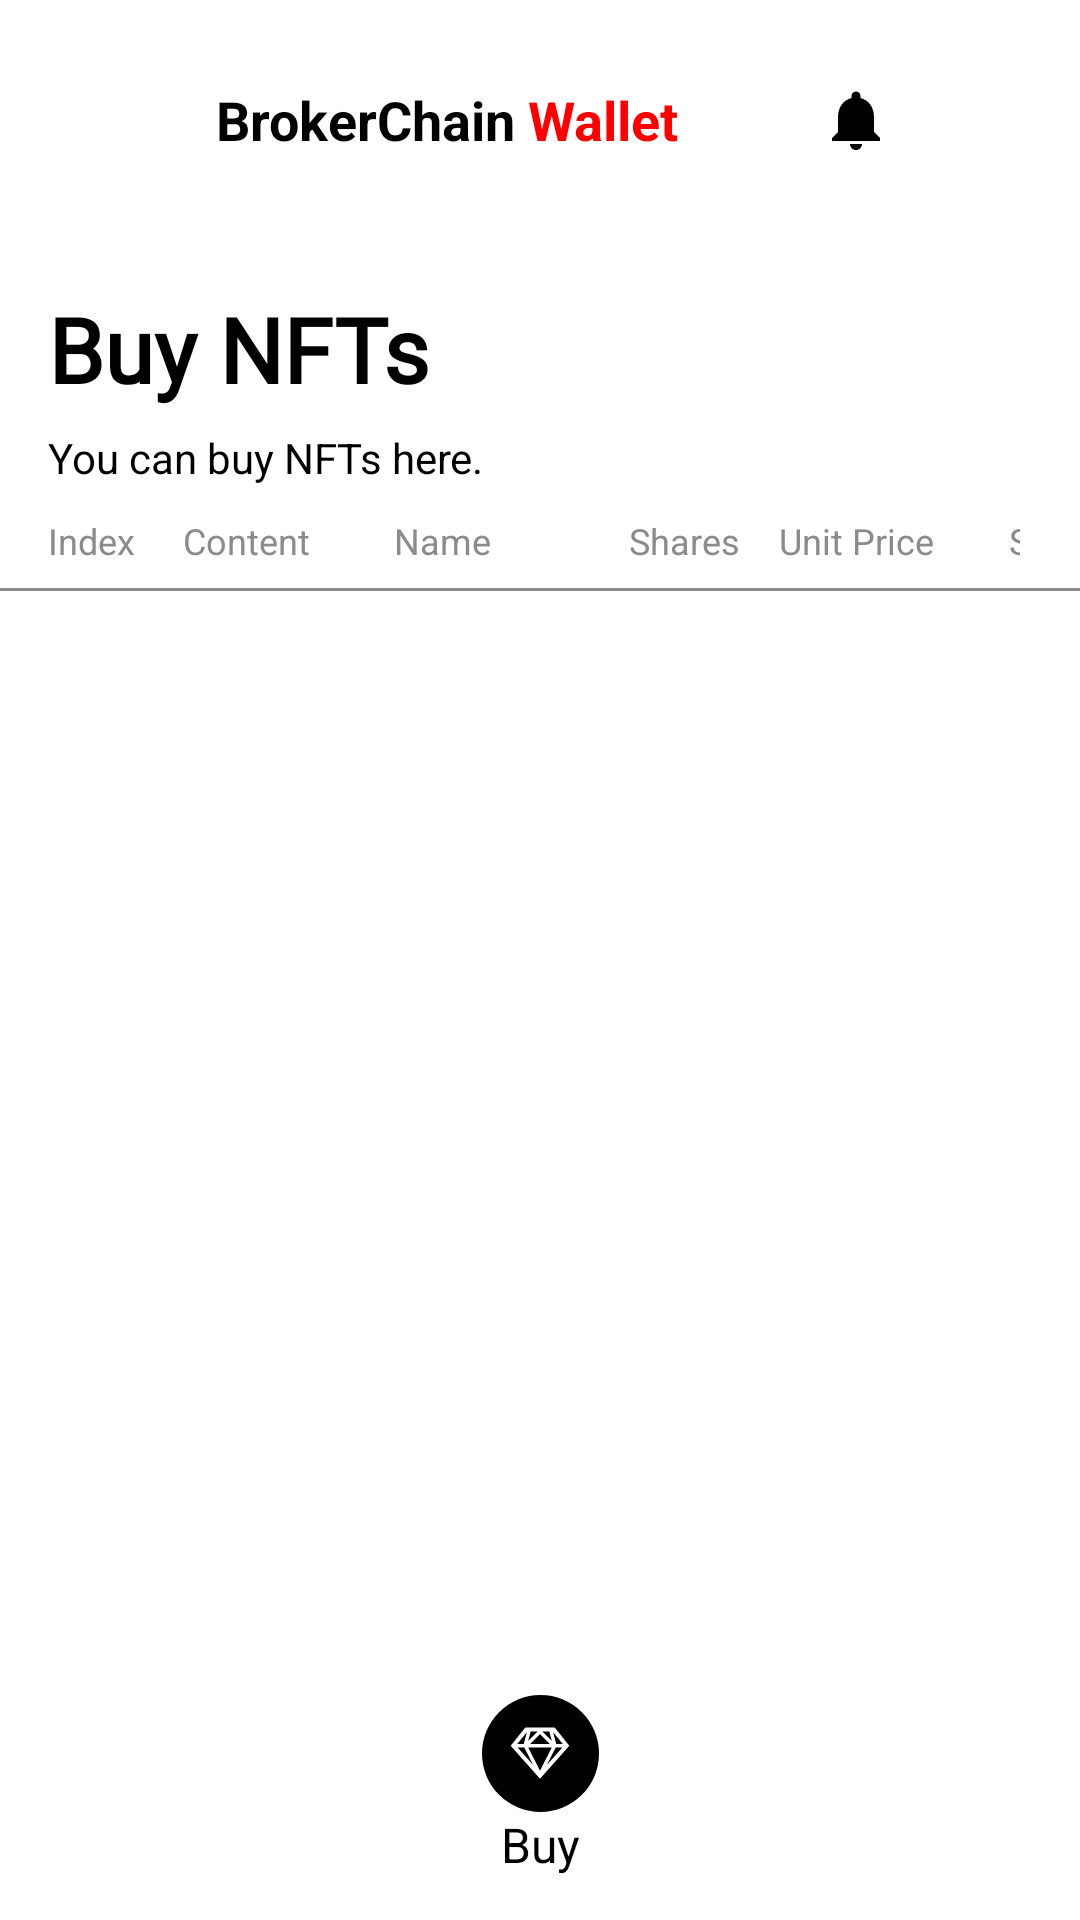

Point at icon controls on the screen. Image size 1080*1920, points as point (x, y).
Notifications: point (856, 120)
